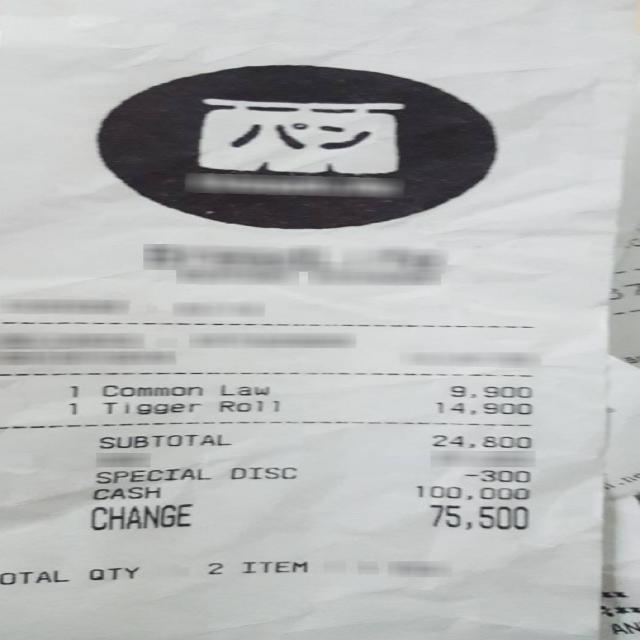text: (85, 502, 194, 530), (427, 504, 527, 529), (96, 433, 228, 448), (92, 467, 206, 483), (414, 485, 528, 499), (99, 384, 203, 397), (430, 434, 530, 447), (100, 401, 199, 414), (449, 384, 532, 398), (435, 402, 531, 414), (0, 570, 70, 584), (237, 560, 307, 574), (90, 485, 158, 499), (228, 466, 293, 479), (464, 469, 528, 482), (590, 619, 638, 635), (217, 400, 280, 412), (88, 566, 140, 579), (219, 384, 271, 395), (205, 562, 223, 574), (66, 384, 80, 397), (67, 402, 79, 414)
